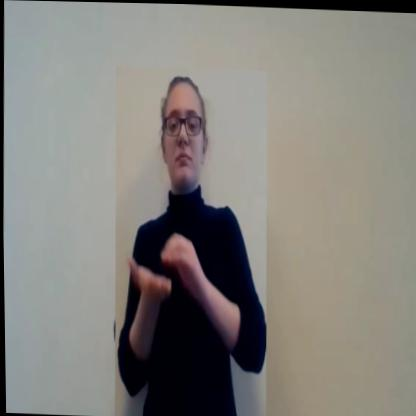ExcuseMe: (109, 64, 270, 416)
